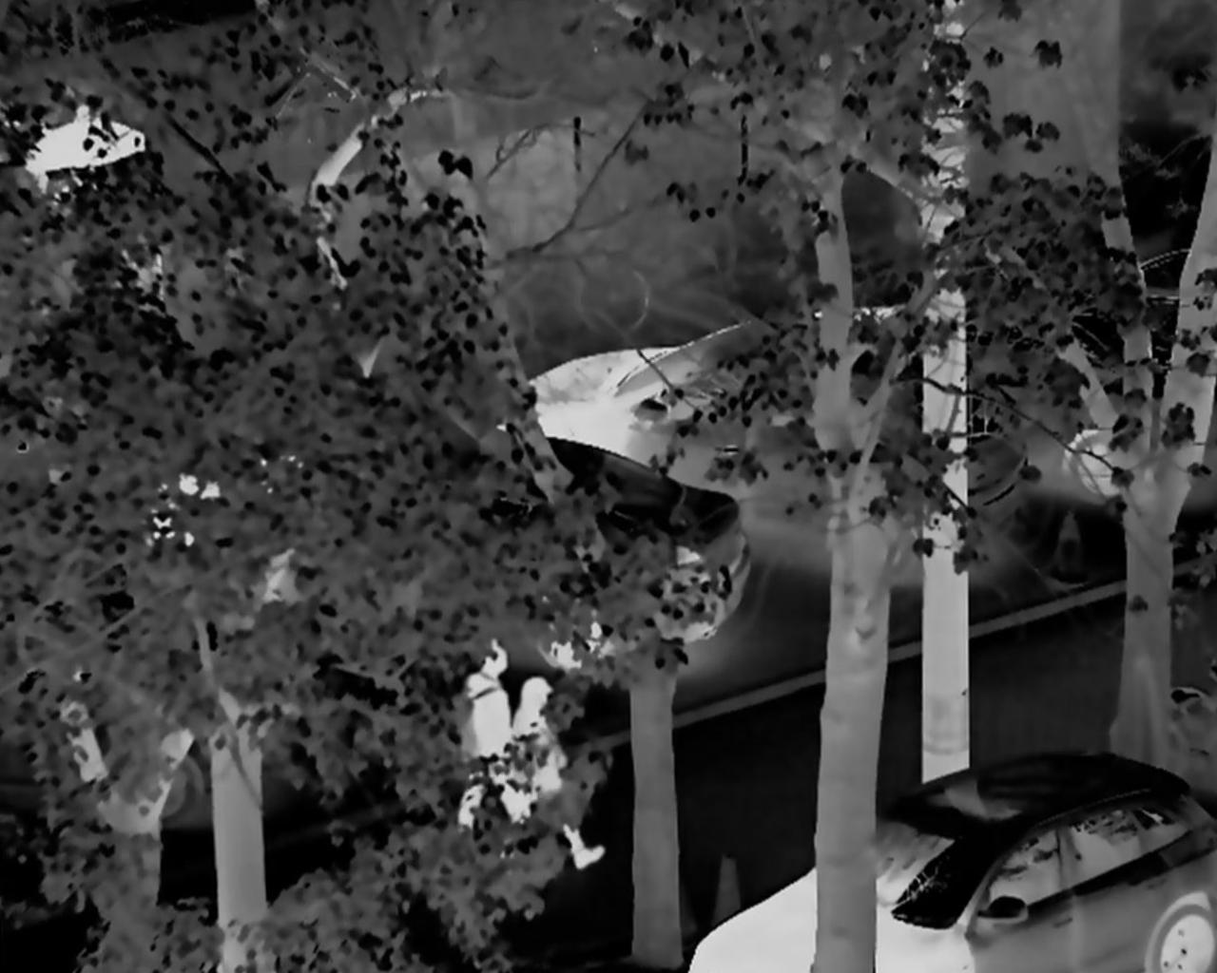person: (505, 665, 604, 868), (451, 636, 516, 852)
